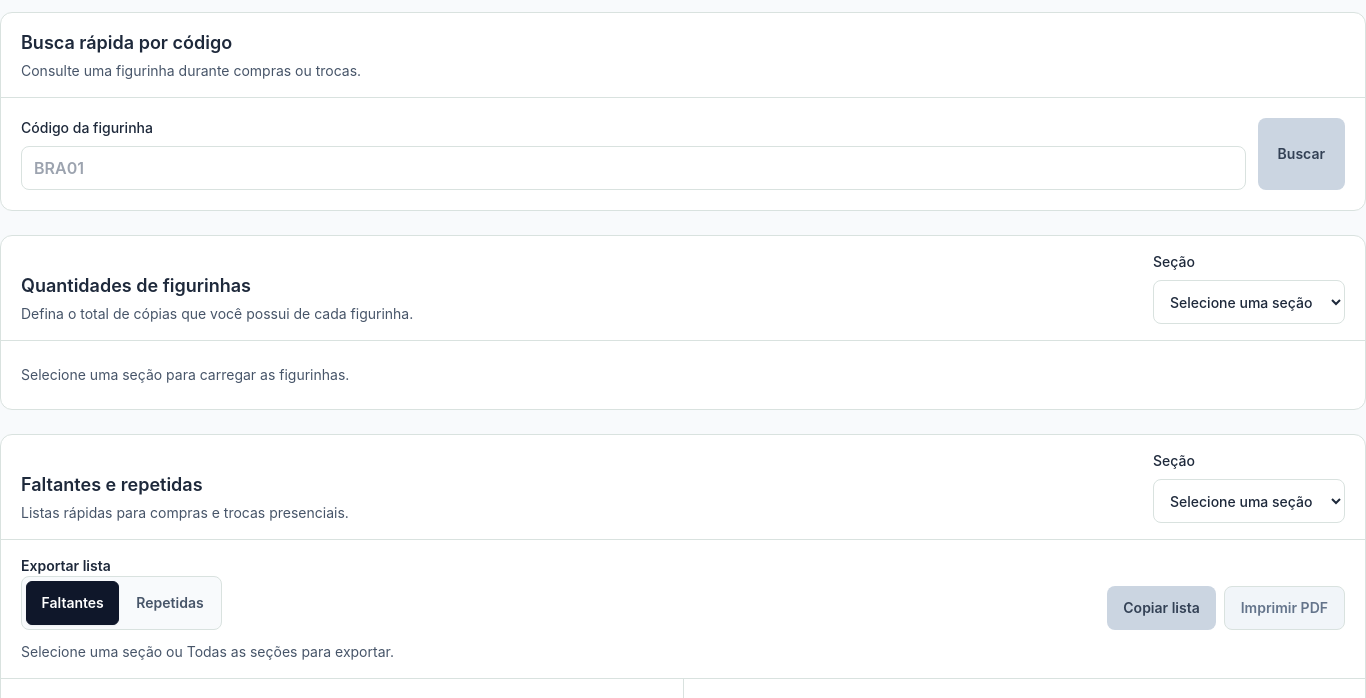
Test: CollectionDashboard › shows manual copy fallback when clipboard fails for duplicates
(page scrolled)
Select "Brazil" in the dropdown labelled "Seção" in the row of "Faltantes e repetidas" at (1249, 501), box [1153,479,1345,523]
(page scrolled)
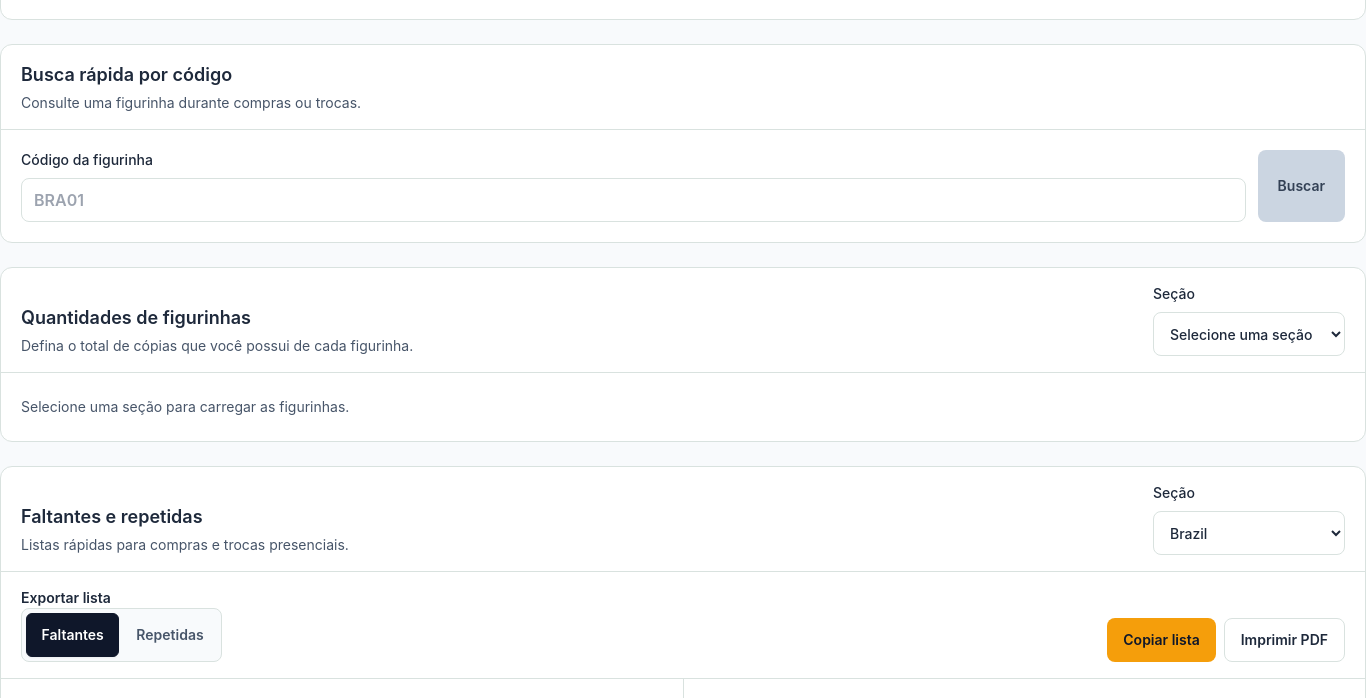
Click the radio button labelled "Repetidas" at (170, 634), box [136,626,204,643]
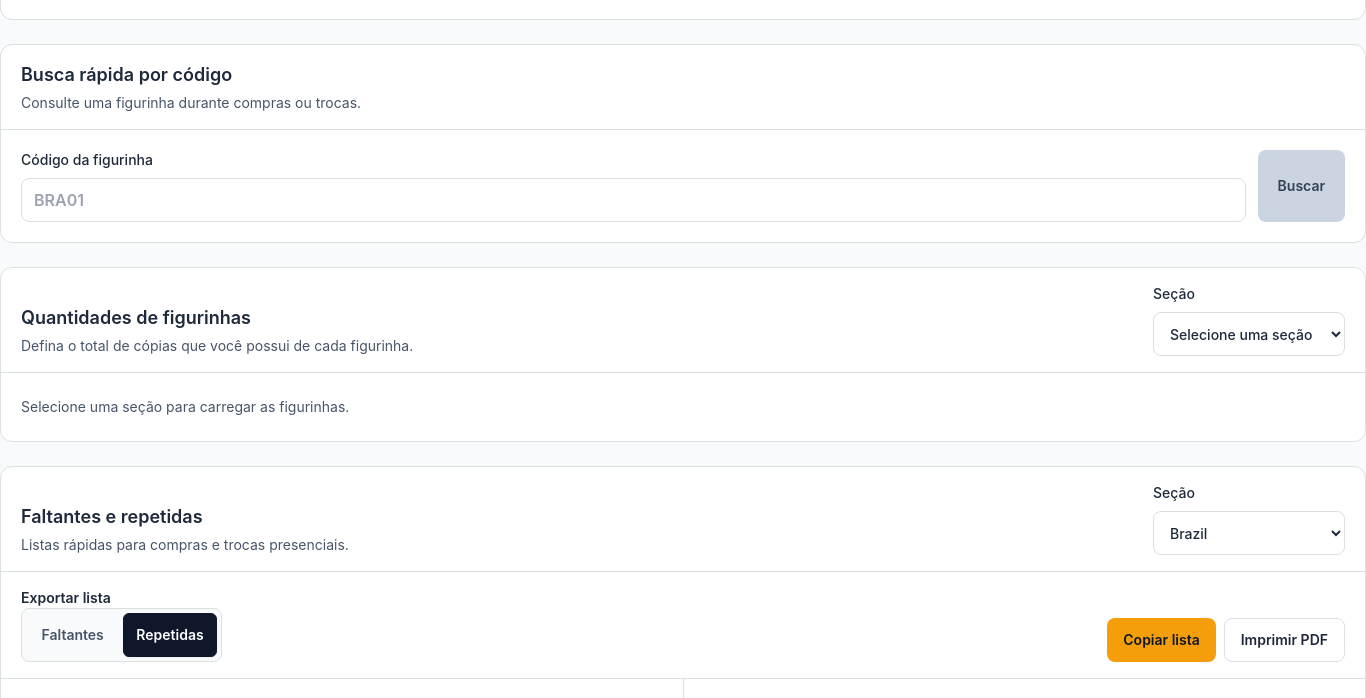
Click the button "Copiar lista" at (1162, 640), box [1107,618,1216,662]
(page scrolled)
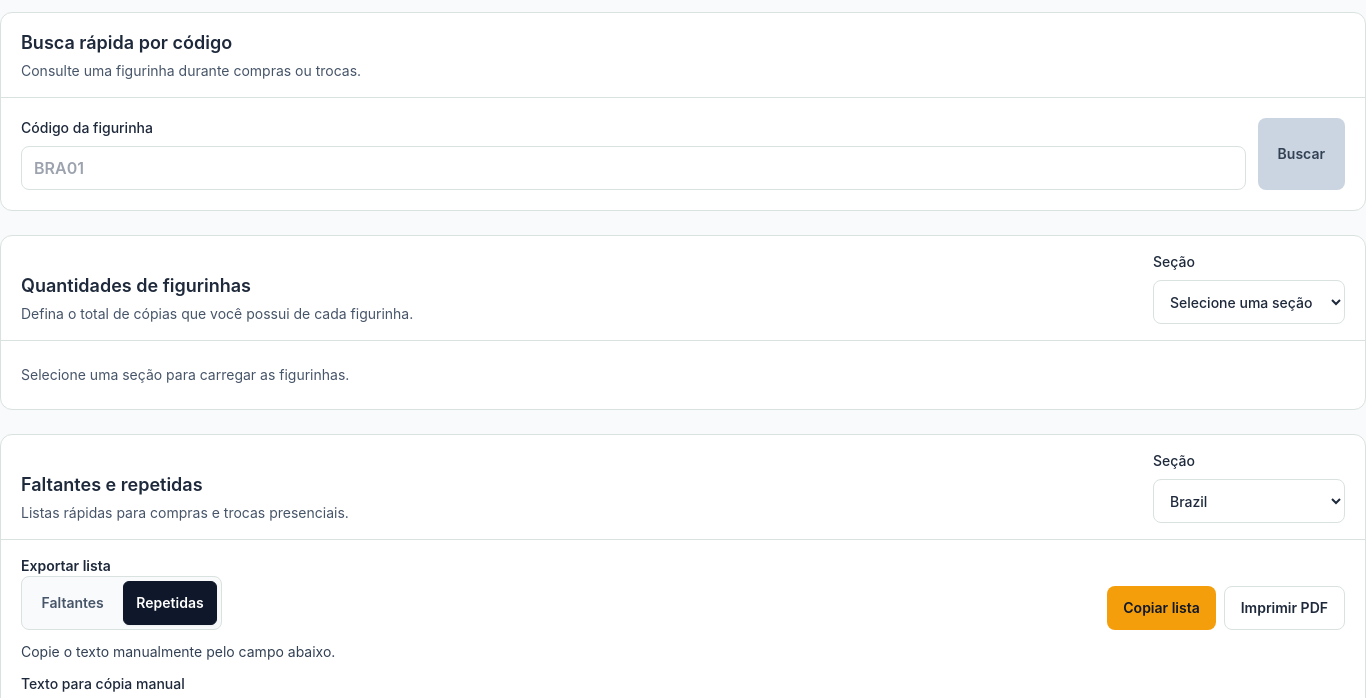
Expected: the text "Copie o texto manualmente pelo campo abaixo." is shown, [21,643,335,660]
